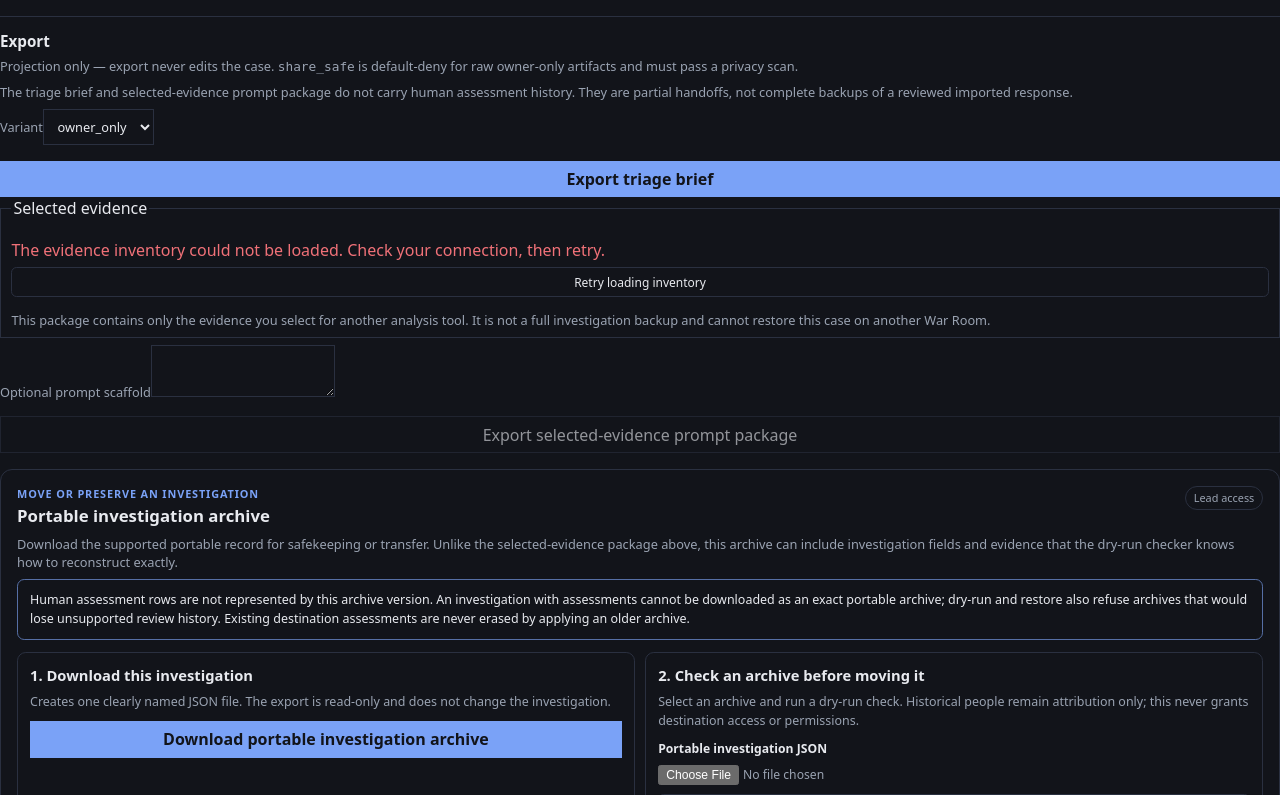
Test case: export panel › explains exact label-history refusal and does not download a lossy archive
Click the button "Download portable investigation archive" at (326, 739), box top-left (30, 721), bottom-right (622, 758)
(page scrolled)
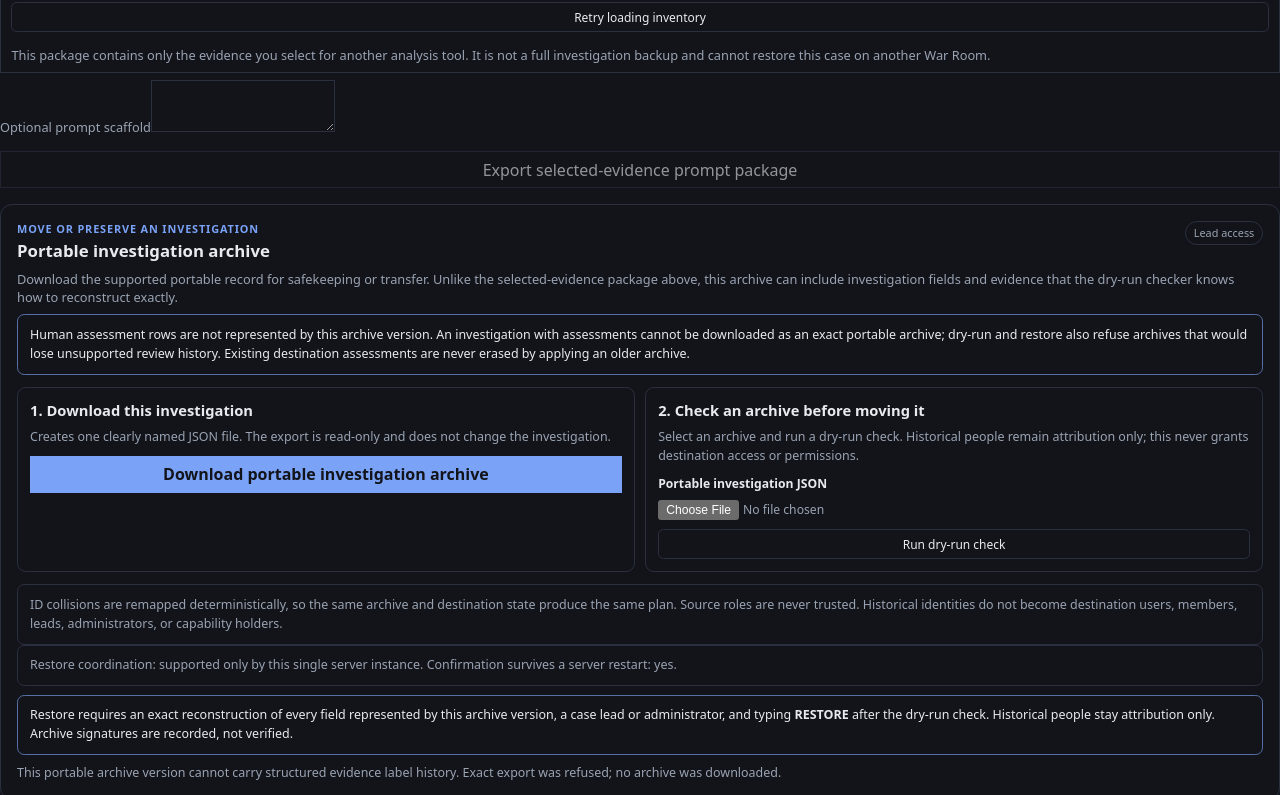
Result: the text "Exact export was refused; no archive was downloaded" is shown at top-left (17, 764), bottom-right (781, 781)
